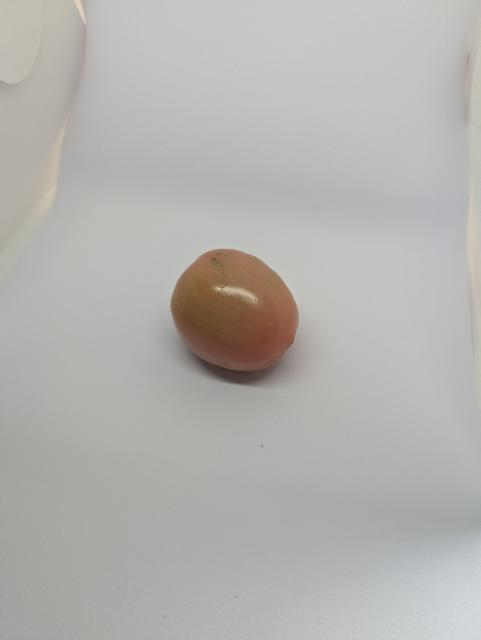turning: (160, 241, 305, 377)
